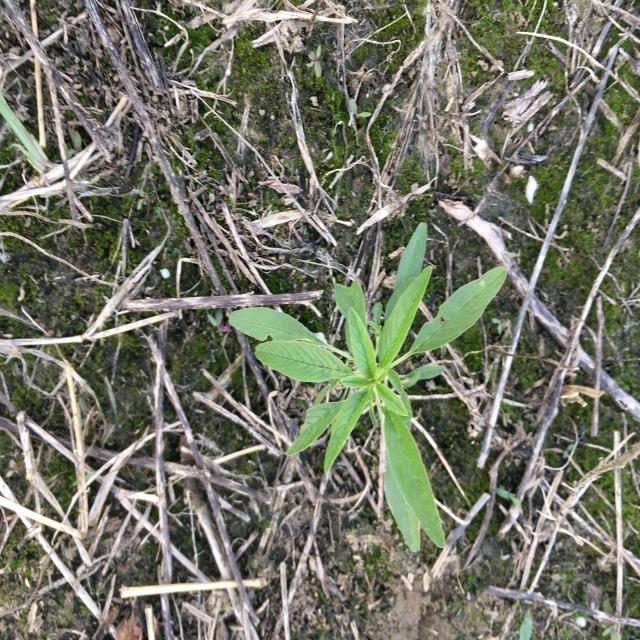Waterhemp: (227, 219, 509, 554)
